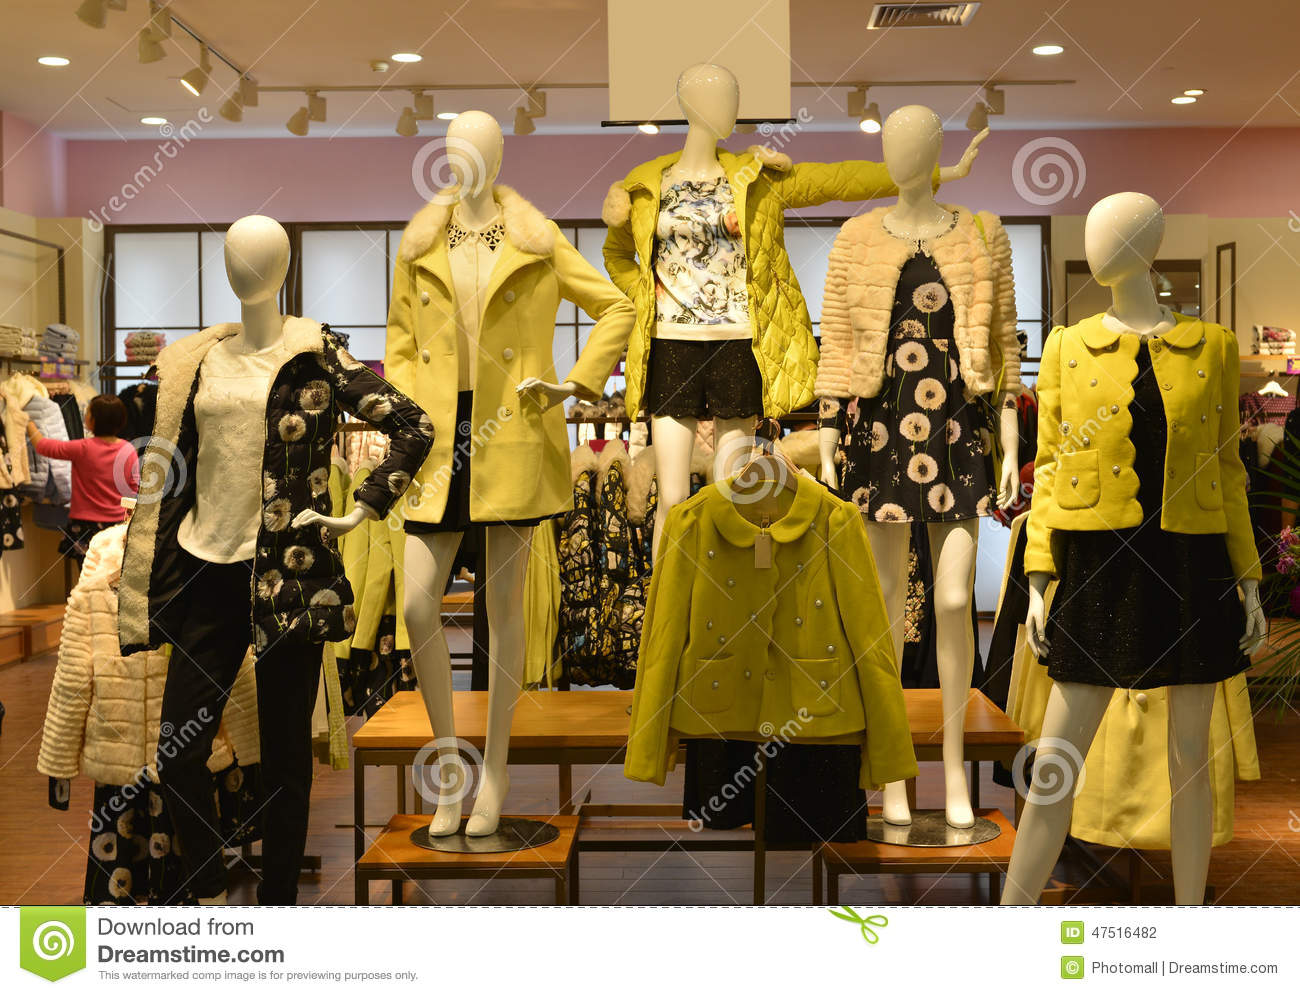person: (20, 386, 144, 569)
person-like: (119, 207, 445, 909), (983, 183, 1281, 906), (376, 99, 644, 844), (594, 52, 992, 544), (808, 92, 1033, 836)
